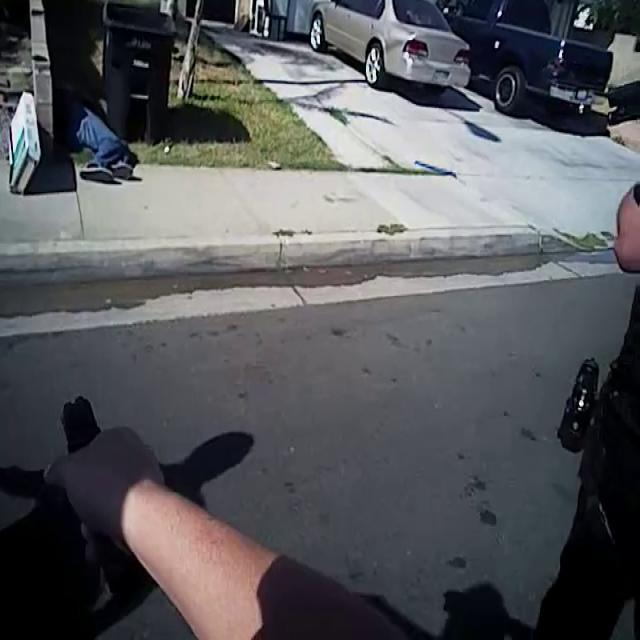gun: (28, 364, 181, 612)
